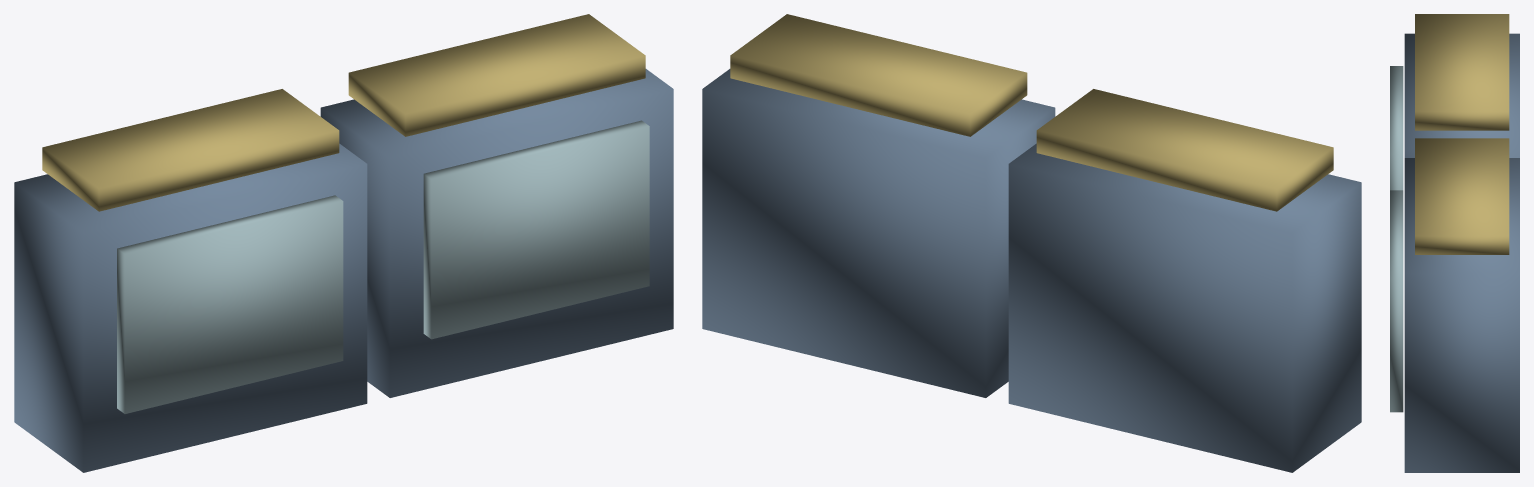
The model's file is lottery_counter_display__cluster.glb.
3 renders of one model, left to right at view 1: azimuth 30°, elevation 25°; view 2: azimuth 150°, elevation 25°; view 3: azimuth 270°, elevation 25°, orthographic. The views are drawn at different scales.
Parts seen in each view (by area): view 1: world; view 2: world; view 3: world.
Boxes of the visible parts, box(x1,y1,x2,y2) form: world: box(14, 14, 673, 472); world: box(702, 14, 1361, 472); world: box(1390, 14, 1519, 472).
Size of the model in its own units: 1.08 by 0.48 by 0.2475.
